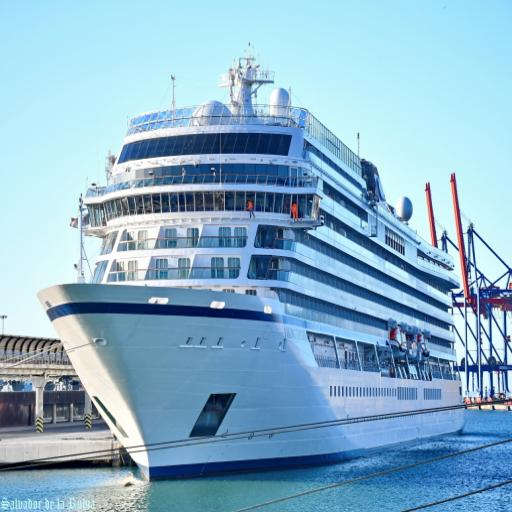cruises: (35, 44, 471, 487)
